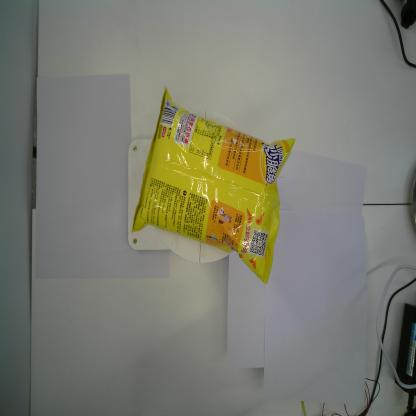Puffed Food: (130, 83, 297, 287)
